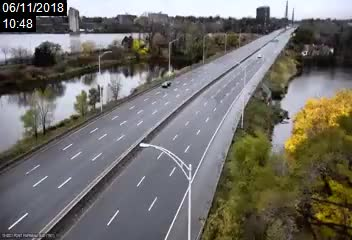personal_car: (160, 79, 172, 88)
